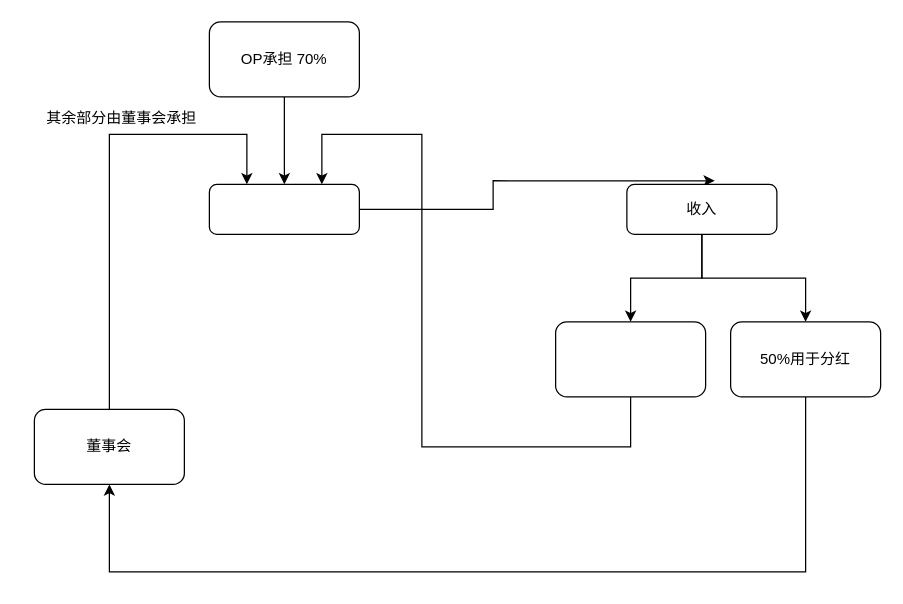
Some shapes in this 903 by 604 pixel diagram are drawn without their labels. Here are the shapes that lost their labels. From the top down, the box of each, then its label:
(208, 183, 359, 234): 建设 支出
(554, 321, 706, 397): 50%用于建设
